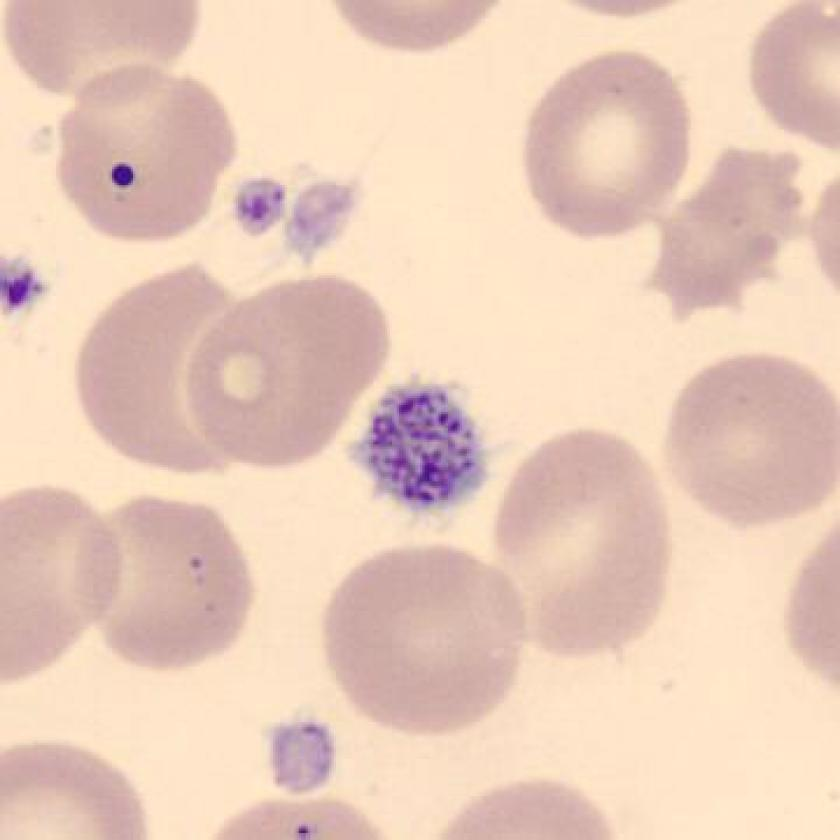platelets: (346, 371, 496, 522), (274, 175, 370, 267), (267, 711, 339, 804), (227, 170, 293, 237), (1, 256, 48, 321)
